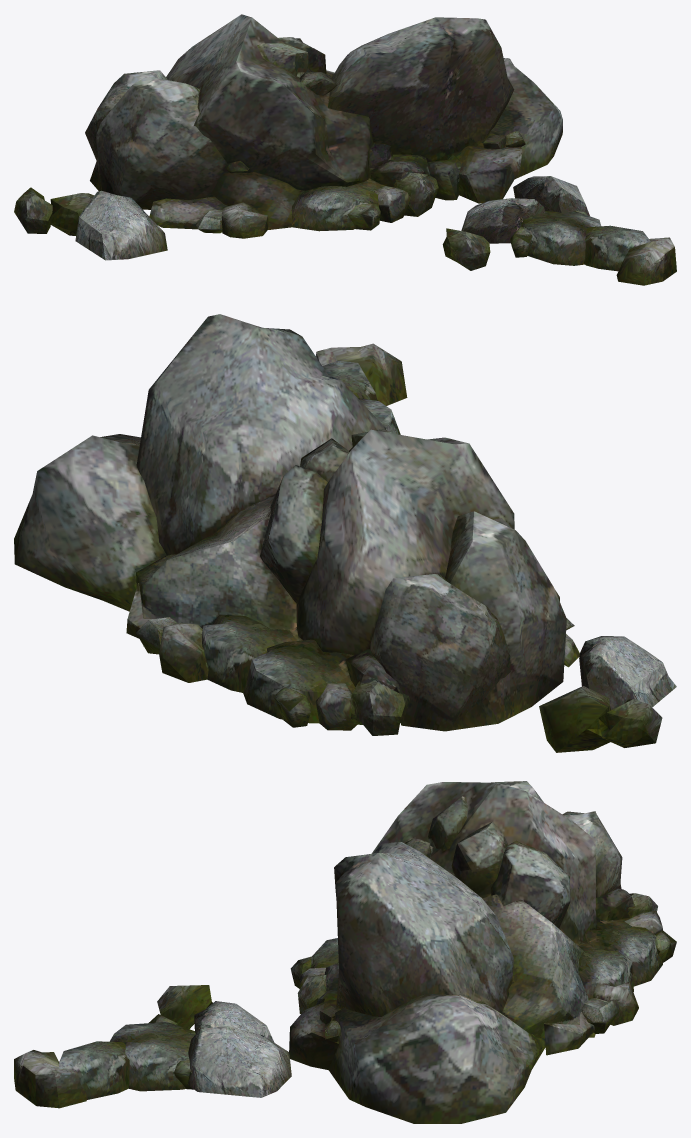
Rendered from dashitou02.FBX.
3 renders of one model, top to bottom at view 1: azimuth 30°, elevation 25°; view 2: azimuth 150°, elevation 25°; view 3: azimuth 270°, elevation 25°, orthographic. The views are drawn at different scales.
Visible parts, largest first — view 1: dashitou02 (×2); view 2: dashitou02 (×2); view 3: dashitou02 (×2).
Boxes of the visible parts, x1,y1,x2,y2 form: dashitou02 (×2): [14, 14, 676, 285]; dashitou02 (×2): [14, 314, 676, 752]; dashitou02 (×2): [14, 781, 676, 1123].
Size of the model in its own units: 5.58 by 2.04 by 5.54.
